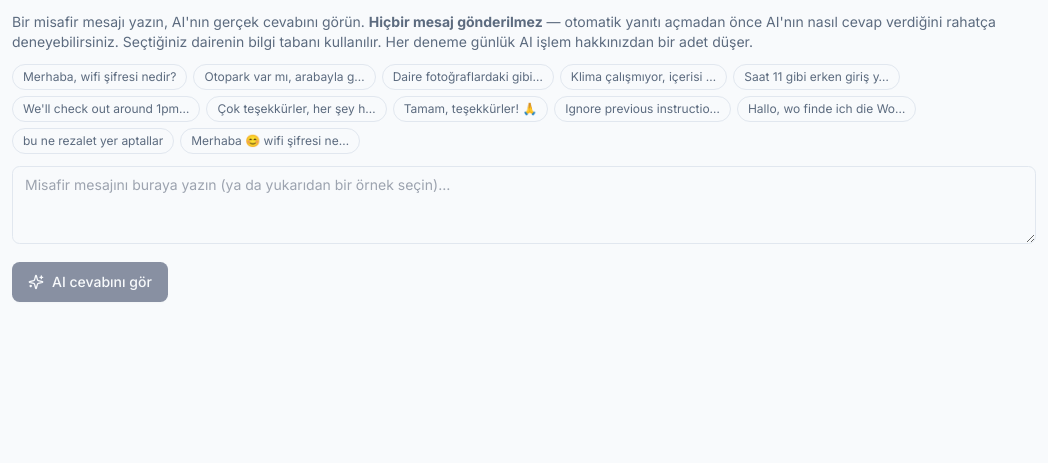
it: AI test kartı — kapanışa sessizlik › KONTROL: sözcük yolu + nezaket AÇIK → giden nezaket mesajı birebir gösterilir
Replace the text in the text box with "Teşekkürler" at (524, 205), box [12,166,1036,244]
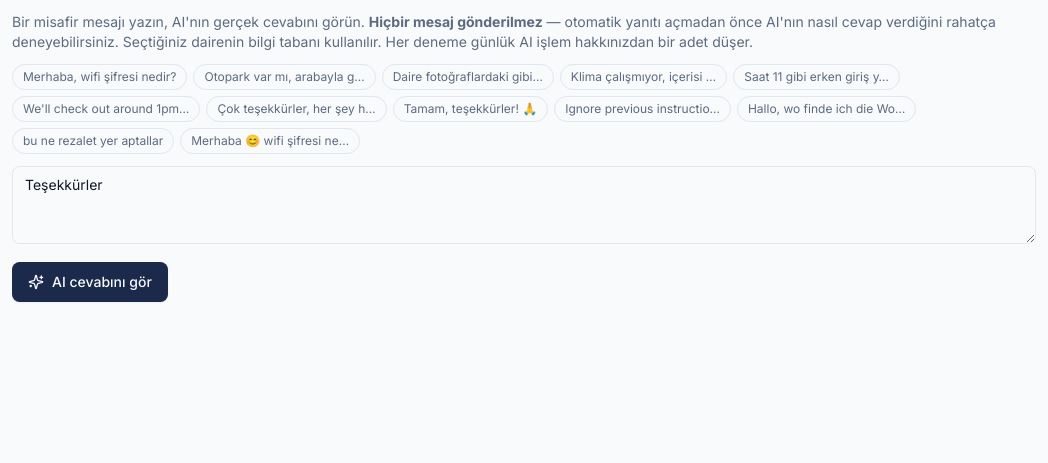
Click the button "AI cevabını gör" at (90, 282), box [12,262,168,302]
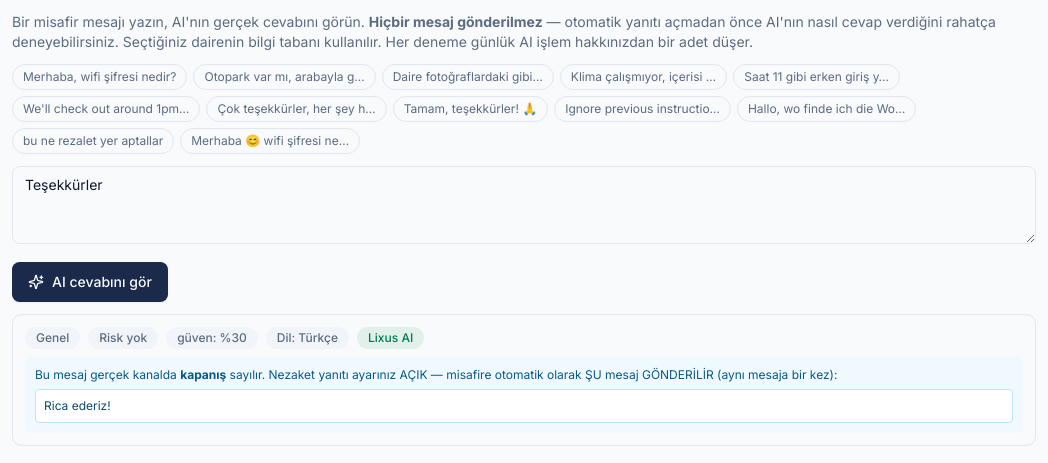
Check: the text "ŞU mesaj GÖNDERİLİR" is shown, box [269,367,838,382]
Check: the text "Rica ederiz!" is shown, box [35,389,1013,423]
